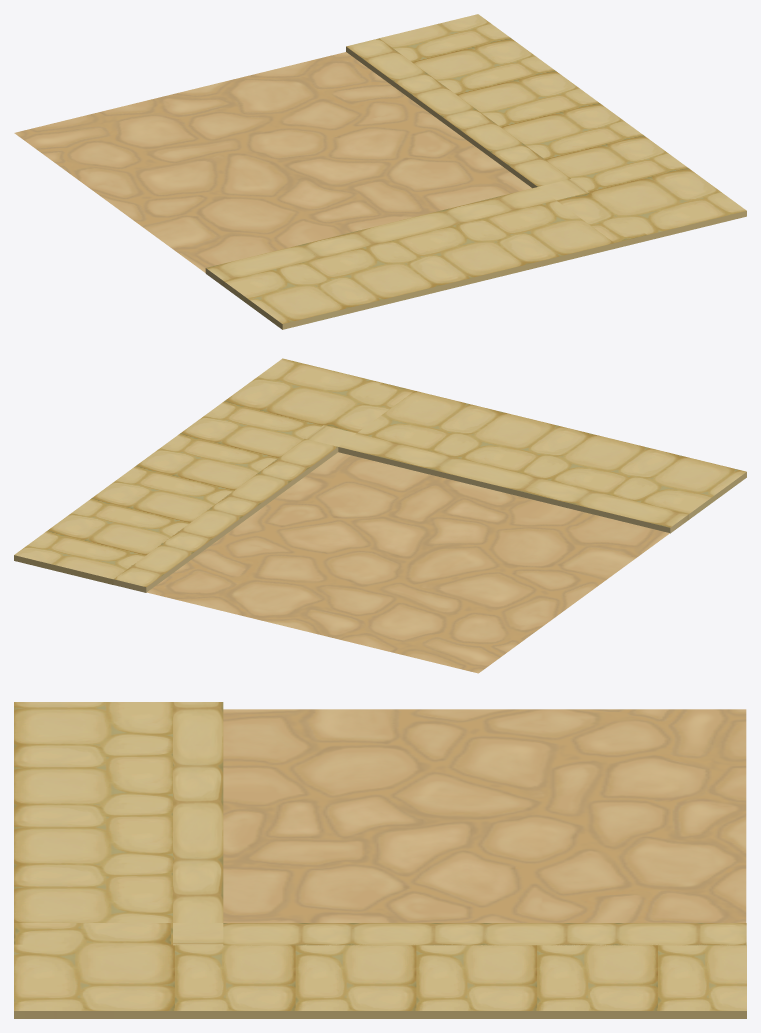
Rendered from StreetCorner.fbx.
The picture shows the model from 3 angles, top to bottom: view 1: azimuth 30°, elevation 25°; view 2: azimuth 150°, elevation 25°; view 3: azimuth 270°, elevation 25°; orthographic projection. The views are drawn at different scales.
Visible parts, largest first — view 1: Cube.001, Plane; view 2: Cube.001, Plane; view 3: Cube.001, Plane.
Part boxes in pixels (x1,y1,x2,y2): Cube.001: (205, 14, 746, 329); Plane: (14, 52, 531, 272); Cube.001: (14, 358, 746, 592); Plane: (147, 452, 669, 673); Cube.001: (14, 702, 746, 1018); Plane: (223, 709, 746, 922).
Size of the model in its own units: 280 by 3.33 by 280.
